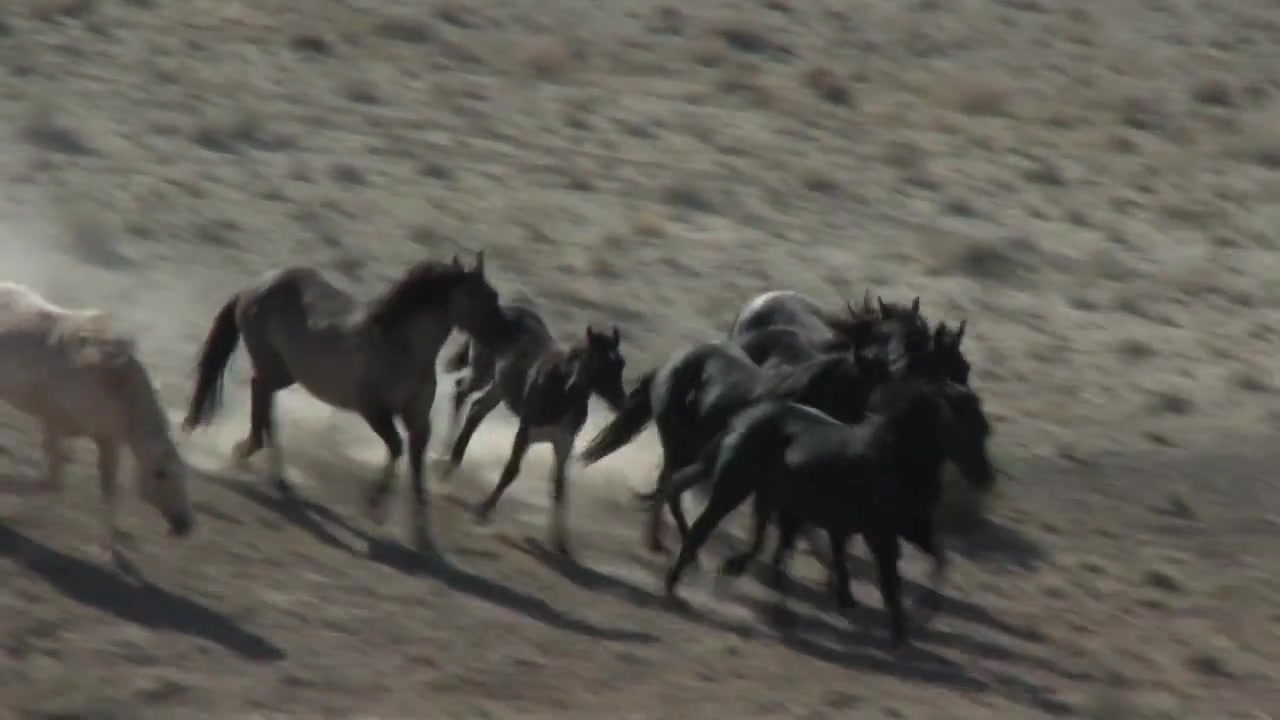horse: (180, 250, 512, 554), (663, 377, 997, 617), (577, 341, 896, 569), (1, 282, 195, 559), (443, 302, 641, 556), (736, 275, 938, 378), (914, 318, 1000, 391)
